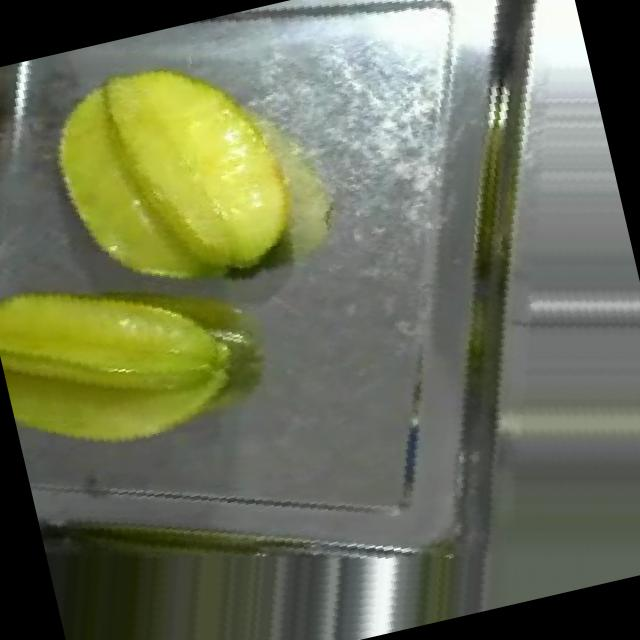fruit: (0, 0, 366, 351), (0, 193, 282, 513)
